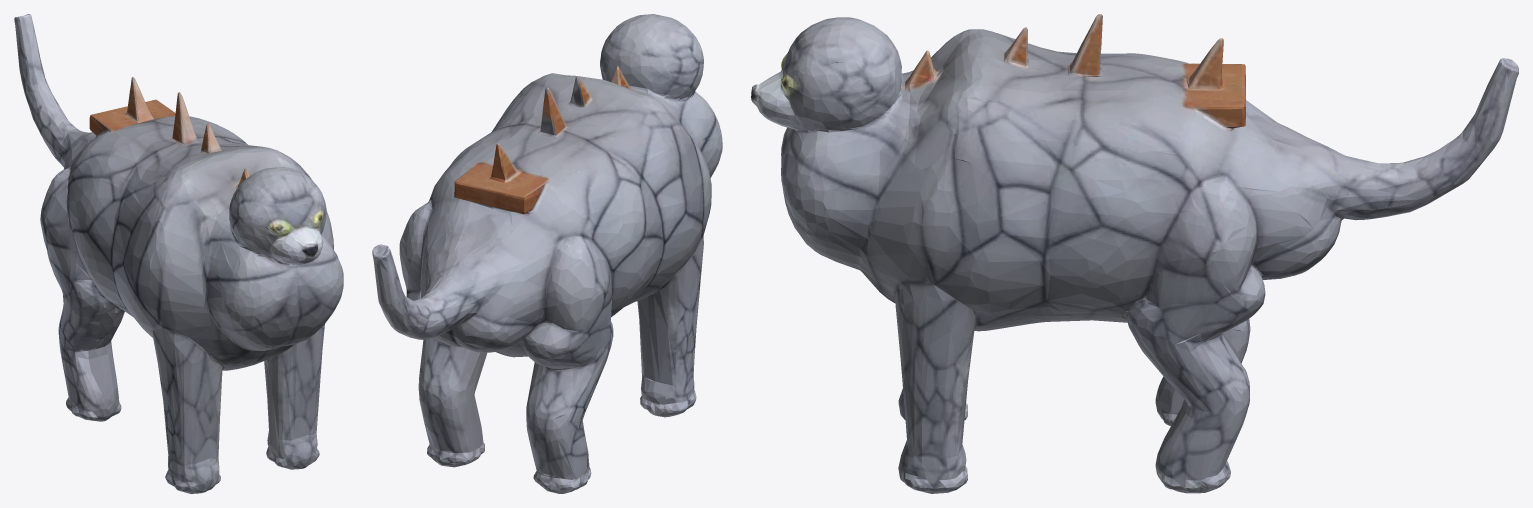
File: creature-048.lod.glb
The picture shows the model from 3 angles, left to right: view 1: azimuth 30°, elevation 25°; view 2: azimuth 150°, elevation 25°; view 3: azimuth 270°, elevation 25°; orthographic projection. The views are drawn at different scales.
Parts seen in each view (by area): view 1: tmprbd287mr.ply; view 2: tmprbd287mr.ply; view 3: tmprbd287mr.ply.
Boxes of the visible parts, bbox=[...] form: tmprbd287mr.ply: bbox=[14, 14, 343, 493]; tmprbd287mr.ply: bbox=[372, 14, 722, 493]; tmprbd287mr.ply: bbox=[751, 14, 1518, 493].
Size of the model in its own units: 0.7521 by 1.27 by 1.99.
Materials: 1 (1 with a texture image).
